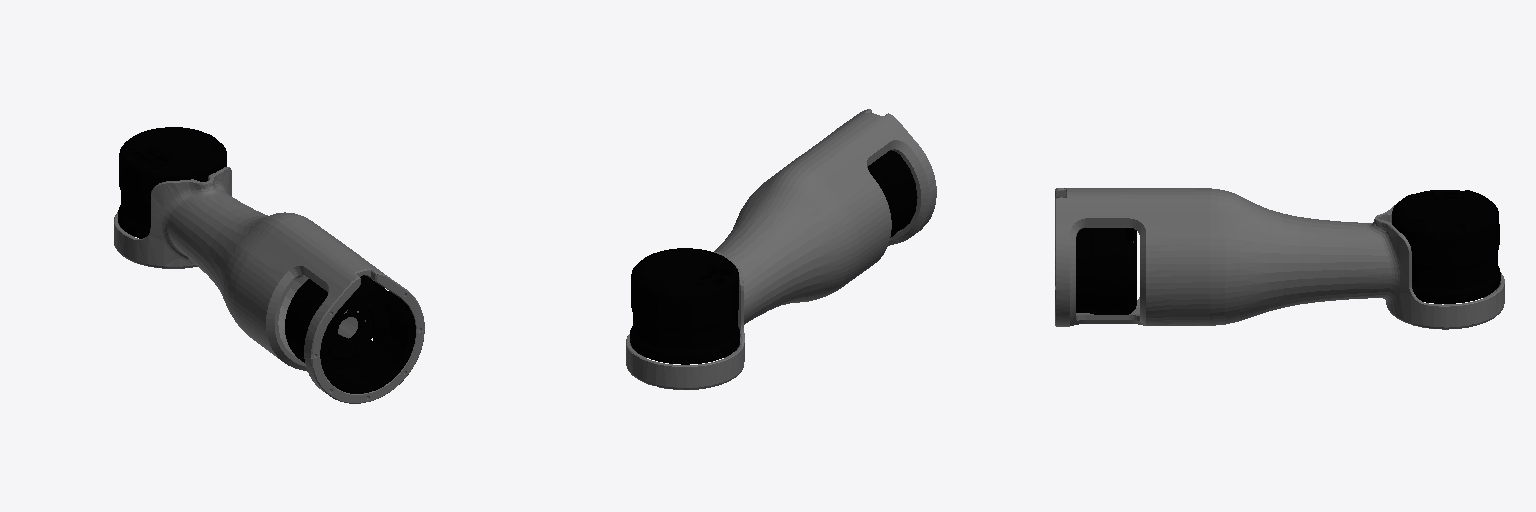
File: right_upper_arm_yaw_link.obj
3 views of the same model, side by side, from view 1: azimuth 30°, elevation 25°; view 2: azimuth 150°, elevation 25°; view 3: azimuth 270°, elevation 25° (orthographic).
Parts seen in each view (by area): view 1: right_upper_arm_yaw_link; view 2: right_upper_arm_yaw_link; view 3: right_upper_arm_yaw_link.
Boxes of the visible parts, x1=… form: right_upper_arm_yaw_link: x1=114, y1=127, x2=424, y2=403; right_upper_arm_yaw_link: x1=626, y1=109, x2=936, y2=389; right_upper_arm_yaw_link: x1=1055, y1=188, x2=1504, y2=329.
Bounding box in the file's own units: 0.062 × 0.0669 × 0.212.